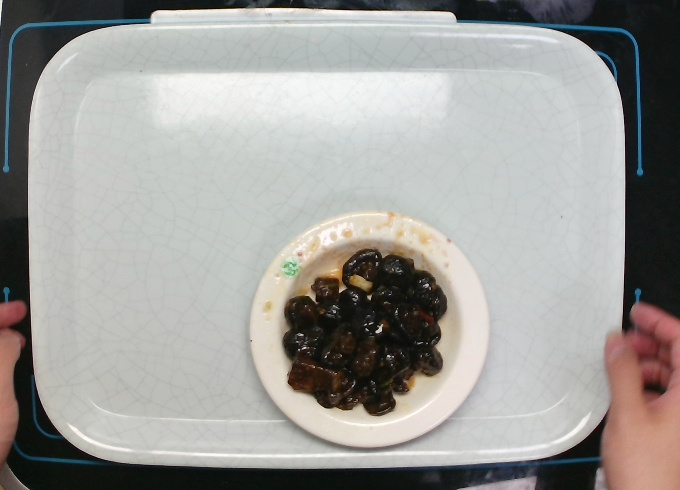WCQzf-Kuan_Bian_Yuan_Die: (244, 202, 496, 452)
